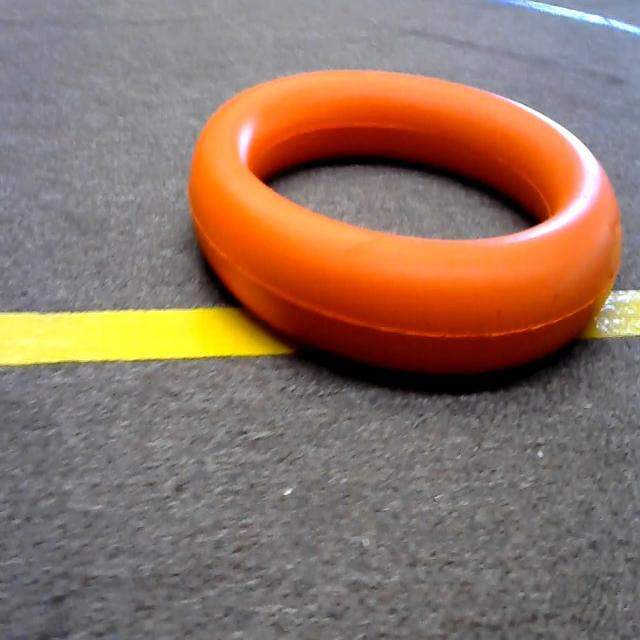note: (182, 53, 630, 414)
